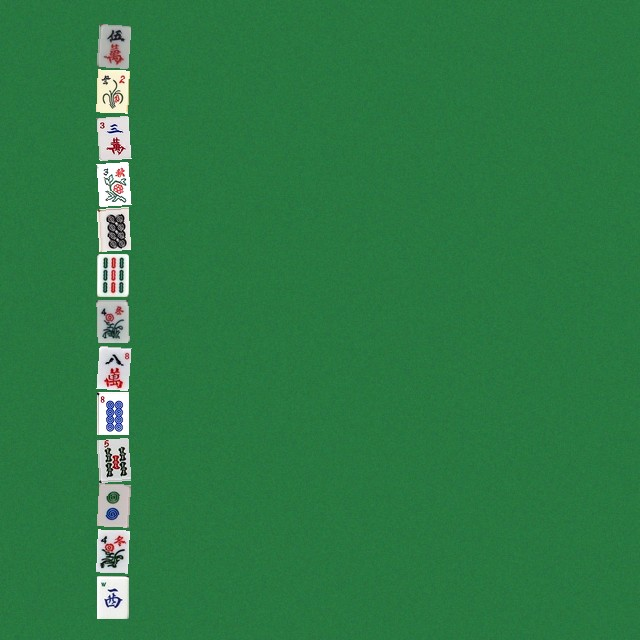tile: (96, 23, 128, 66), (96, 69, 128, 112), (96, 115, 128, 158), (96, 161, 128, 204), (96, 207, 128, 250), (96, 253, 128, 296), (96, 299, 128, 342), (96, 345, 128, 388), (96, 391, 128, 434), (96, 437, 128, 480), (96, 483, 128, 526), (96, 529, 128, 572), (96, 575, 128, 618)
